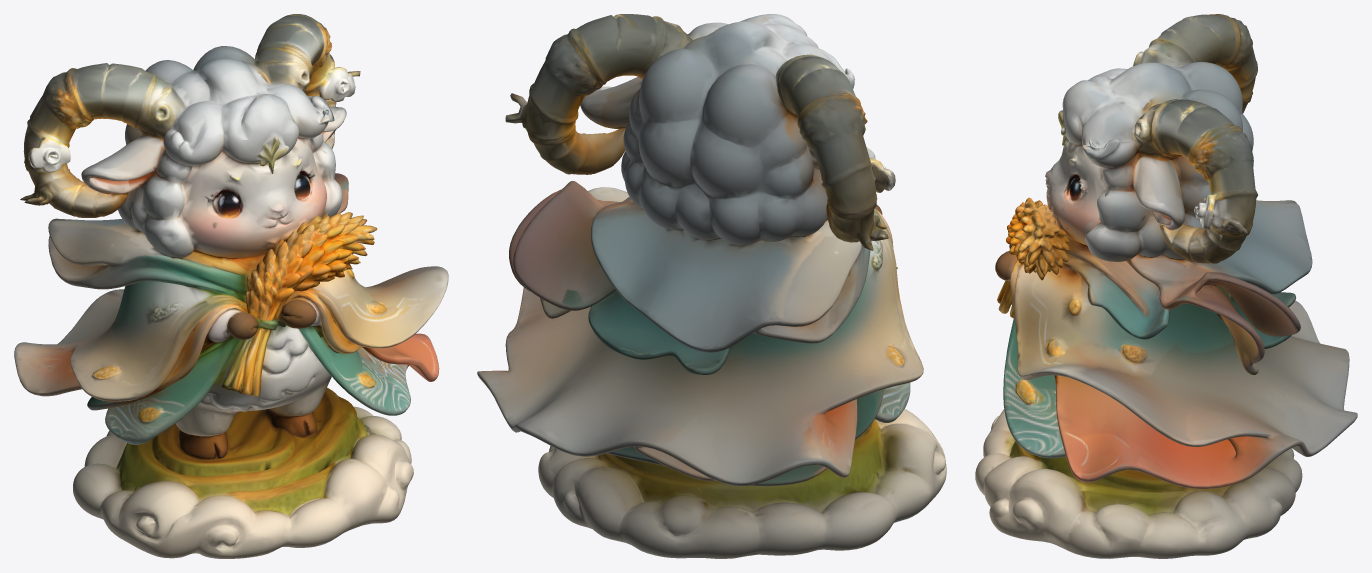
The model's file is award-02.glb.
3 renders of one model, left to right at view 1: azimuth 30°, elevation 25°; view 2: azimuth 150°, elevation 25°; view 3: azimuth 270°, elevation 25°, orthographic. The views are drawn at different scales.
Visible parts, largest first — view 1: node_0; view 2: node_0; view 3: node_0.
Part boxes in pixels (bbox=[...]): node_0: bbox=[14, 14, 448, 558]; node_0: bbox=[477, 14, 946, 558]; node_0: bbox=[975, 14, 1357, 558].
Bounding box in the file's own units: 0.8035 × 0.9065 × 0.7444.
Materials: 1 (1 with a texture image).
